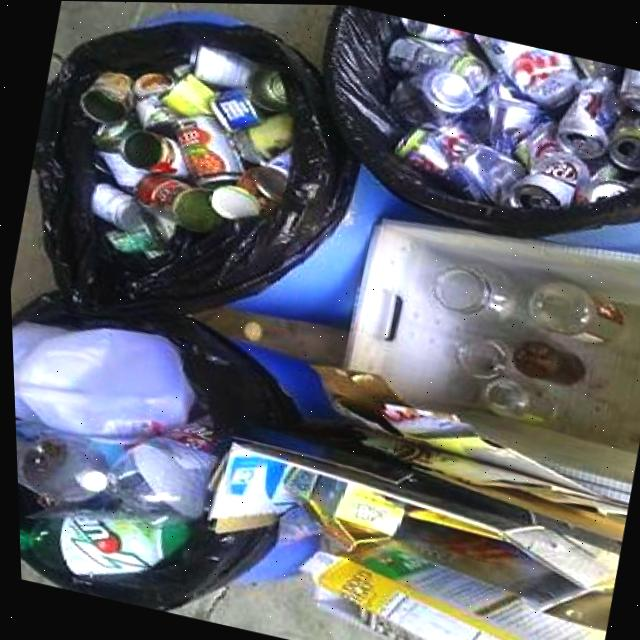Cardboard: (209, 442, 598, 640)
Garbage: (343, 218, 640, 537), (205, 440, 613, 640), (9, 322, 213, 572), (386, 15, 640, 209), (78, 44, 293, 255)
Glass_bottle: (524, 278, 622, 340), (430, 263, 519, 320), (478, 375, 554, 420), (508, 339, 581, 383), (452, 336, 505, 377)
Plastic_Container: (9, 320, 192, 438)
Plastic_bottle: (104, 414, 213, 517), (15, 511, 185, 574), (12, 419, 104, 499)
can: (474, 32, 579, 106), (385, 34, 491, 93), (555, 77, 620, 157), (389, 65, 478, 123), (136, 172, 220, 230), (512, 151, 587, 205), (176, 116, 241, 177), (458, 141, 524, 201), (92, 120, 146, 188), (119, 128, 187, 177), (233, 110, 292, 163), (488, 95, 543, 149), (80, 70, 133, 122), (192, 43, 253, 87), (91, 183, 148, 229), (512, 115, 560, 168), (244, 146, 290, 201), (395, 125, 448, 172), (161, 72, 214, 114), (211, 88, 259, 129), (609, 107, 640, 169), (207, 183, 259, 218), (135, 93, 176, 134), (246, 68, 287, 109), (400, 16, 470, 38), (104, 229, 156, 252), (573, 55, 620, 79), (132, 71, 171, 97), (619, 65, 640, 110), (586, 178, 626, 197), (151, 212, 174, 239)
